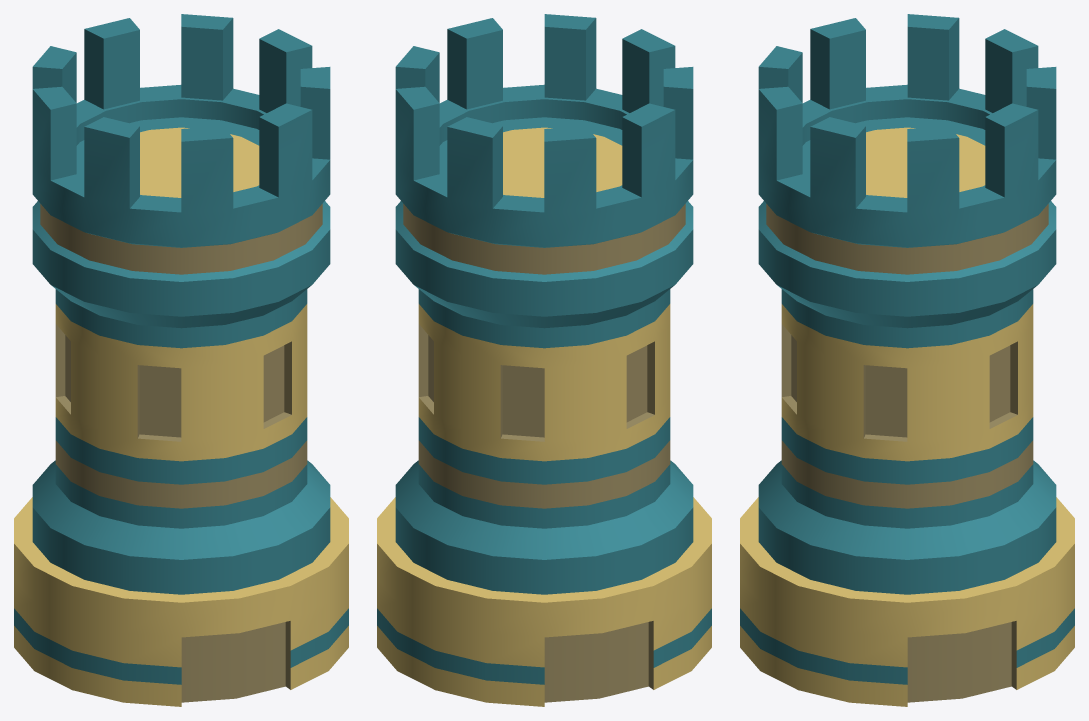
Rendered from Tower 02.FBX.
3 renders of one model, left to right at view 1: azimuth 30°, elevation 25°; view 2: azimuth 150°, elevation 25°; view 3: azimuth 270°, elevation 25°, orthographic.
Parts seen in each view (by area): view 1: Cylinder001; view 2: Cylinder001; view 3: Cylinder001.
Part boxes in pixels (box(x1,y1,x2,y2)): Cylinder001: box(14, 14, 348, 706); Cylinder001: box(377, 14, 711, 706); Cylinder001: box(740, 14, 1074, 706).
Bounding box in the file's own units: 30.35 × 54.87 × 29.89.
